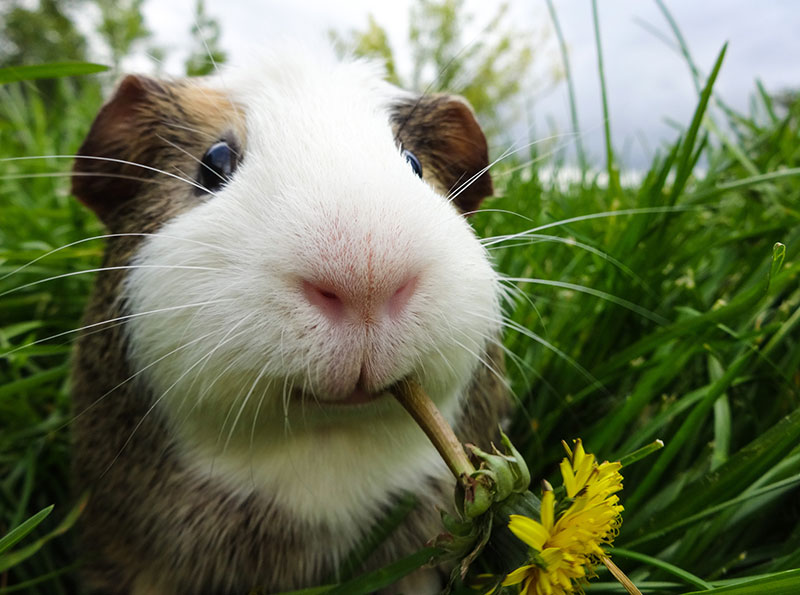pet: (2, 84, 516, 595)
